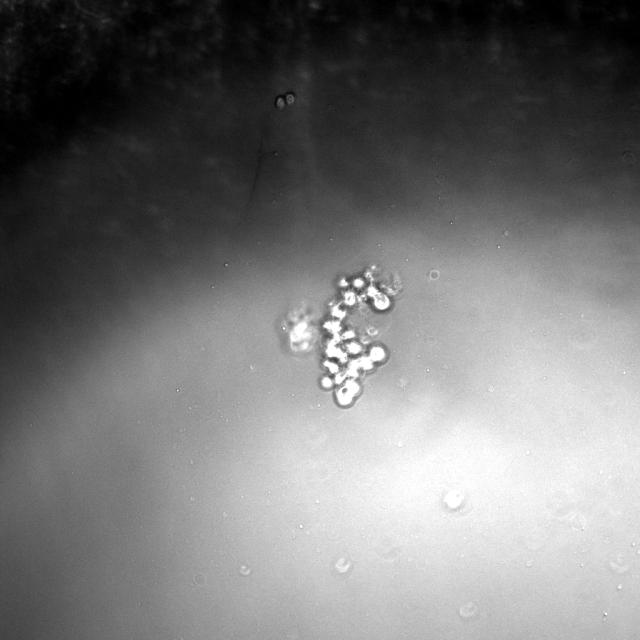organoid: (279, 265, 401, 408), (275, 91, 296, 109)
